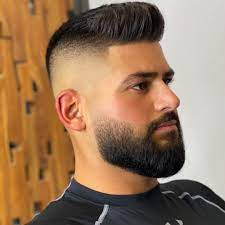b.y: (145, 112, 185, 178)
